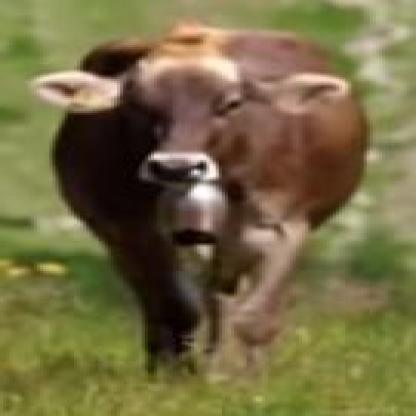cow: (30, 31, 368, 379)
